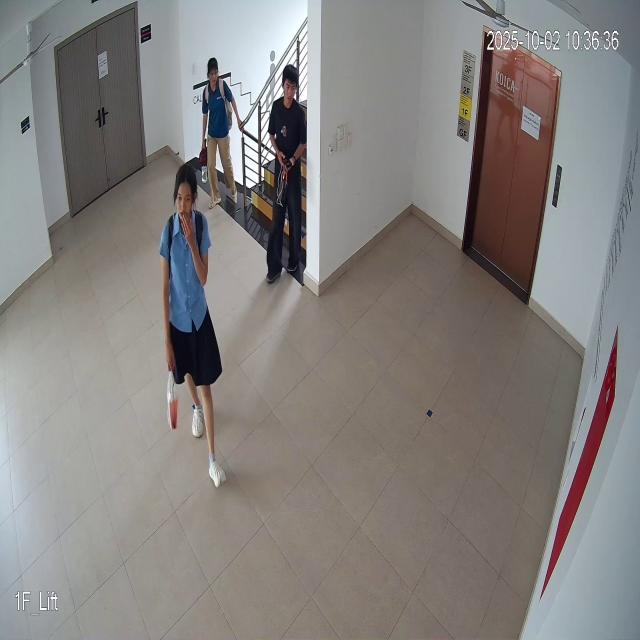face: (174, 162, 199, 228)
